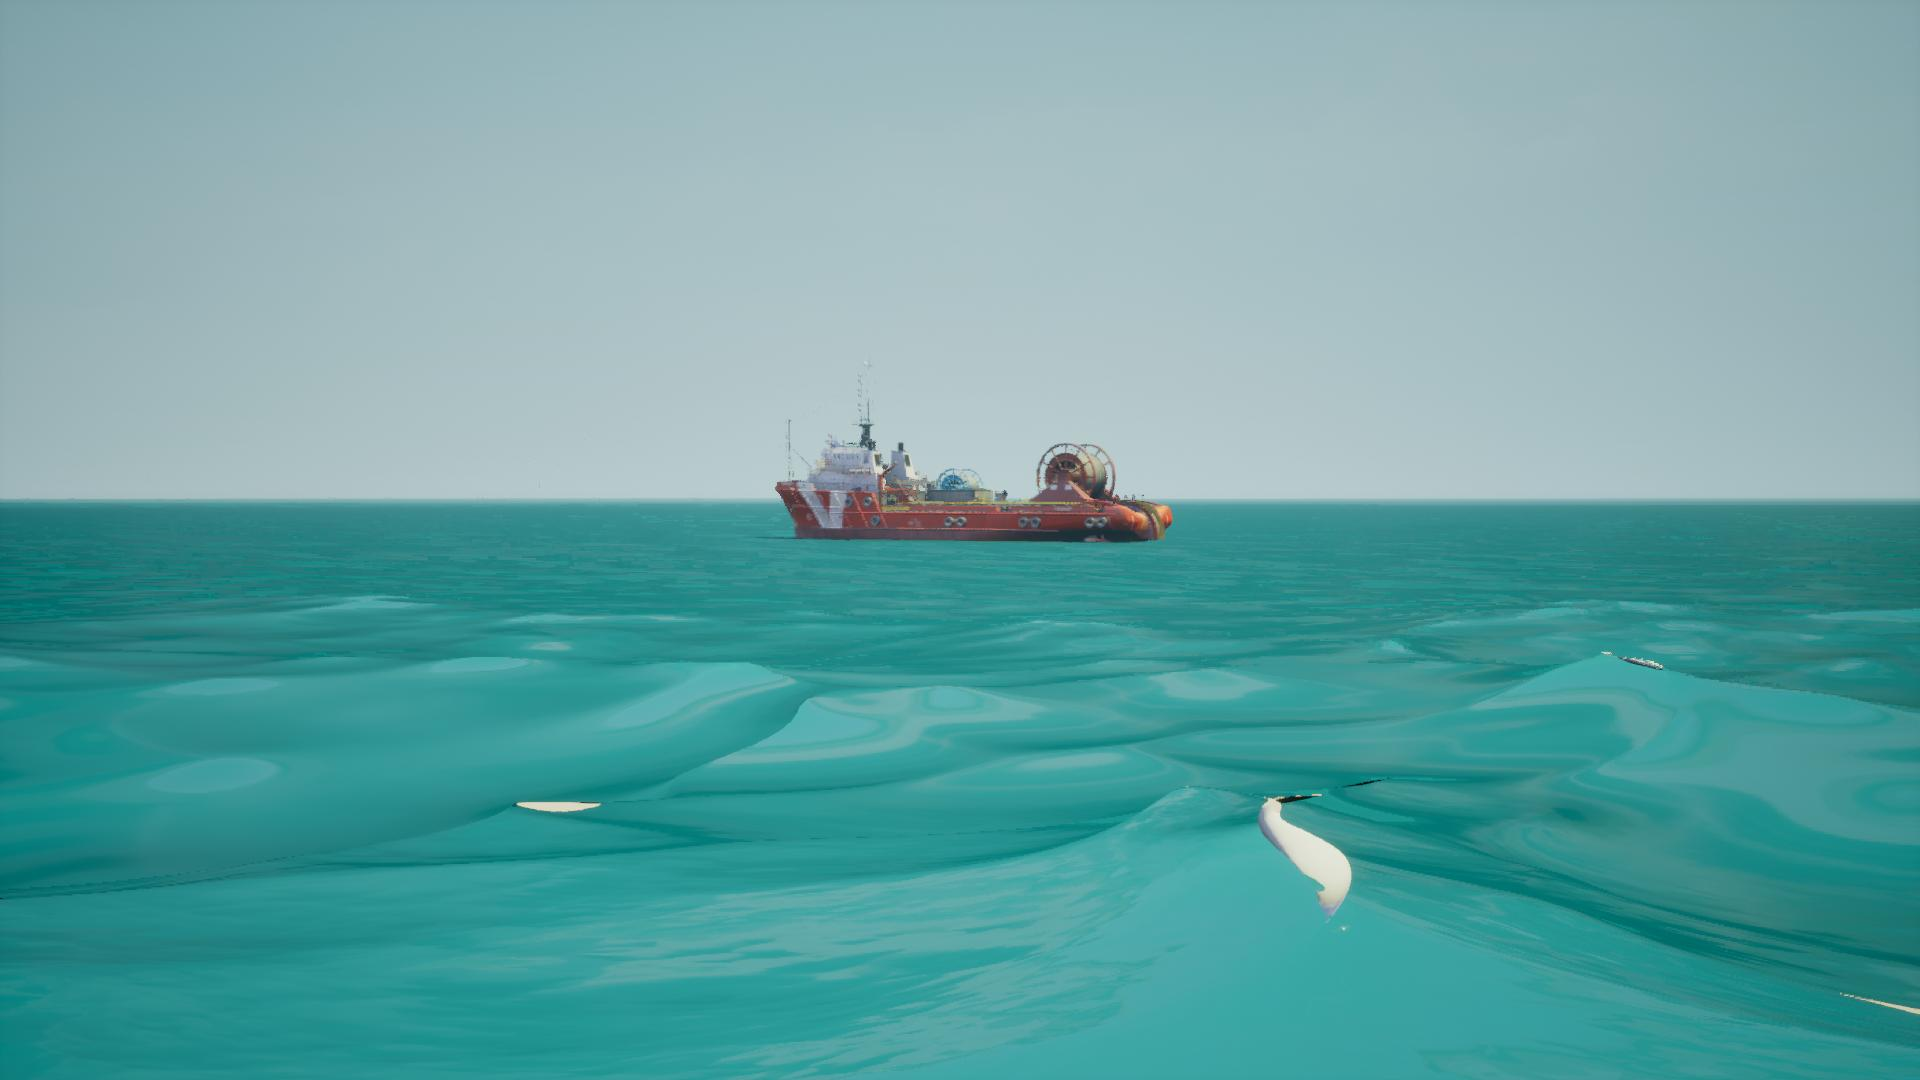Tug Boat: (769, 364, 1171, 545)
